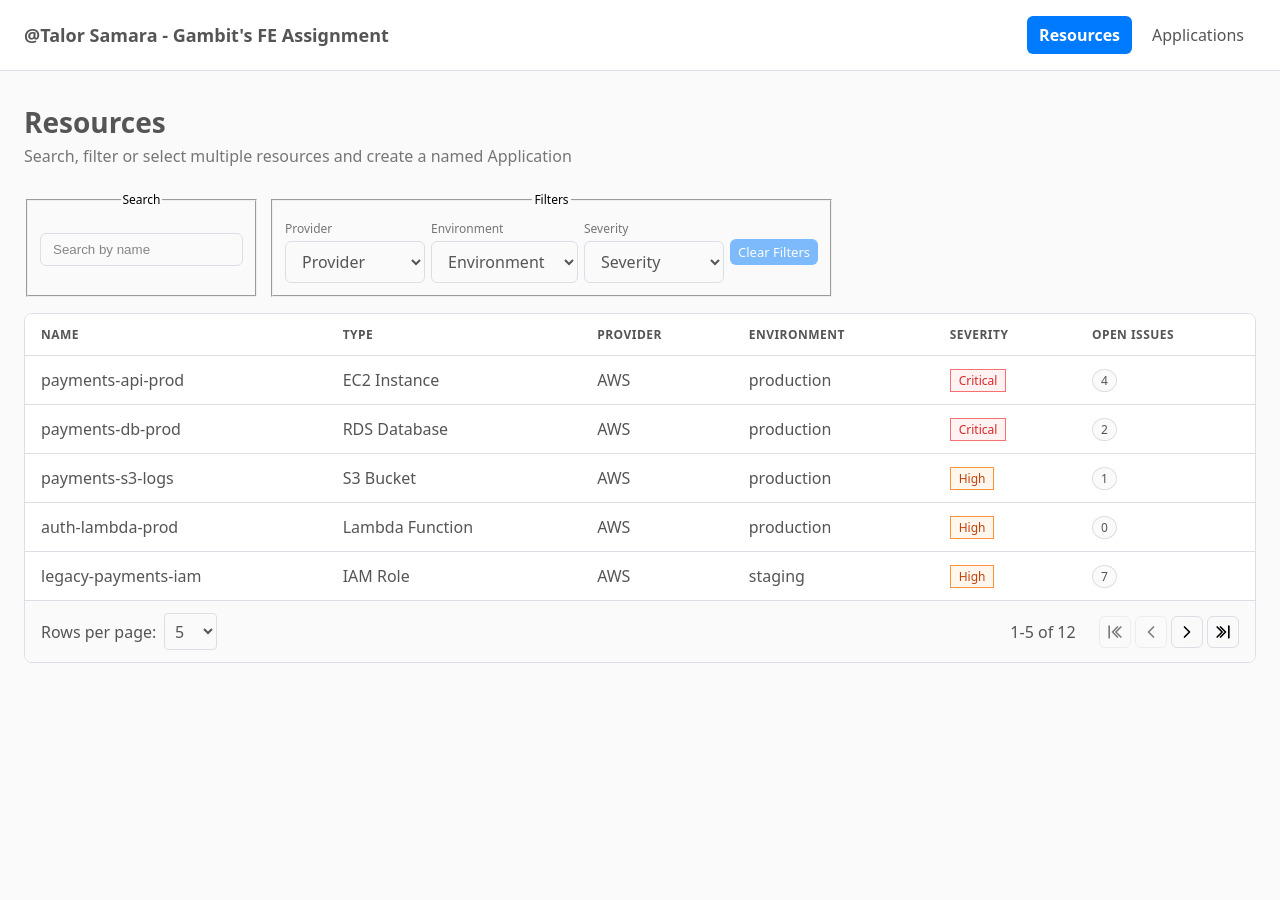
Test: ResourcesPage › should show the next five resources after navigating to the next page
The image size is (1280, 900).
Click the button named "Go to next page": (1187, 632) [1171,616,1203,648]
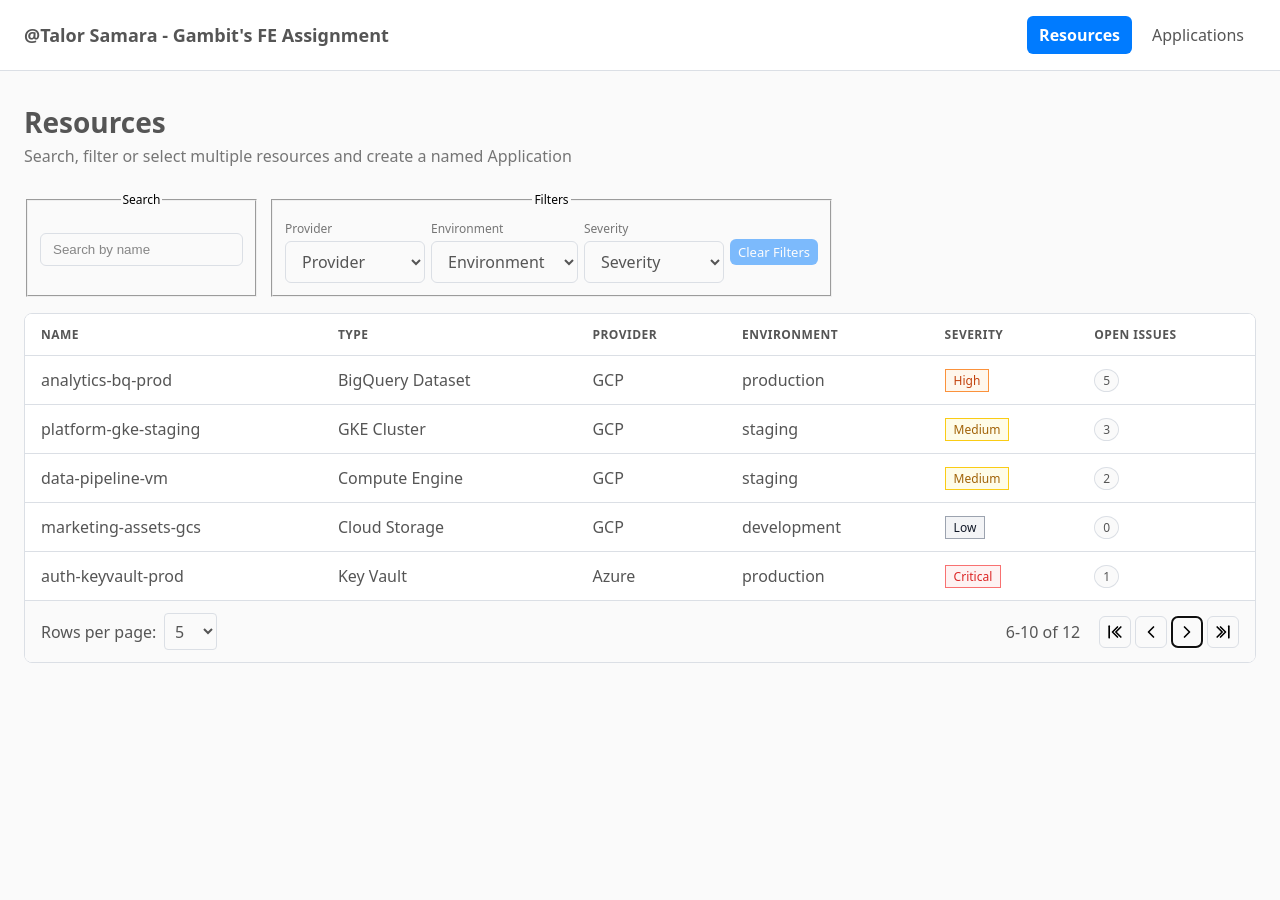
Check: the text "6-10 of 12" is shown, box [1006,621,1080,643]
Check: the cell "analytics-bq-prod" is shown, box [25,356,322,404]
Check: the cell "platform-gke-staging" is shown, box [25,404,322,454]
